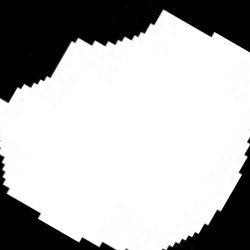spot: (0, 10, 248, 249)
